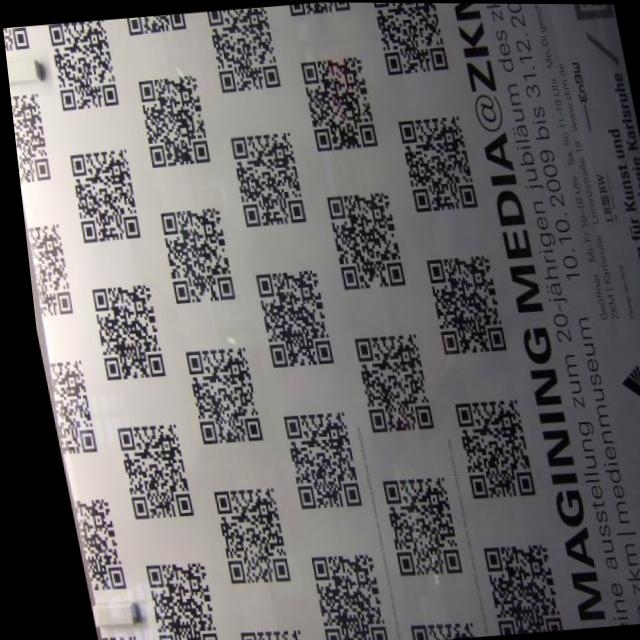qrcode: (445, 397, 525, 499), (371, 475, 450, 577), (420, 254, 499, 354), (346, 333, 425, 433), (321, 191, 400, 290), (202, 486, 279, 586), (395, 115, 474, 212), (249, 269, 326, 368), (274, 411, 351, 510), (153, 207, 231, 304), (470, 541, 550, 635), (177, 347, 254, 444), (225, 132, 303, 227), (299, 56, 376, 151), (83, 284, 159, 380), (107, 423, 182, 520), (63, 149, 139, 243), (134, 74, 210, 168), (297, 551, 374, 640), (46, 19, 119, 112), (206, 6, 280, 93), (131, 559, 206, 640), (374, 3, 447, 75), (37, 360, 89, 454), (62, 498, 114, 591), (20, 223, 69, 316), (9, 92, 52, 183), (126, 13, 187, 36), (396, 620, 461, 640), (225, 627, 288, 640), (290, 3, 352, 15), (3, 25, 29, 52), (86, 634, 123, 640)
